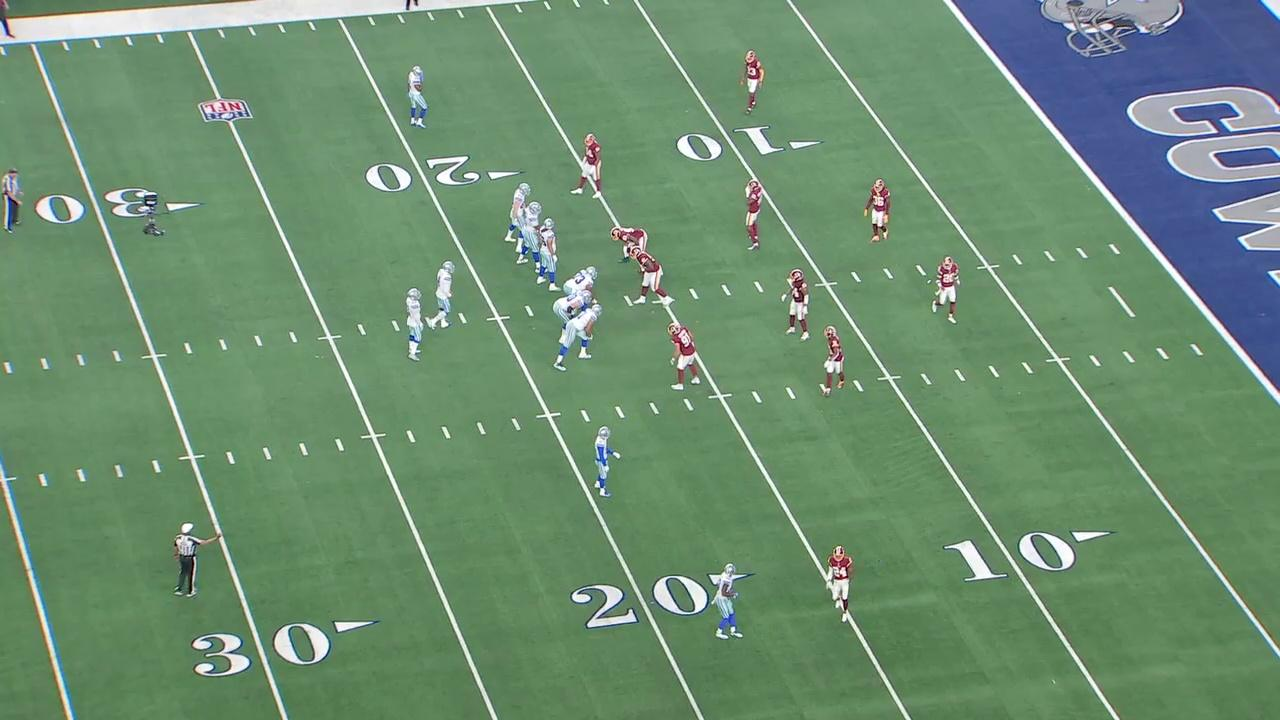player: (552, 304, 603, 374), (629, 246, 674, 308), (711, 563, 744, 642), (824, 545, 857, 623), (516, 199, 550, 274), (666, 321, 701, 392), (569, 133, 605, 200), (551, 288, 594, 344), (781, 269, 813, 343), (426, 260, 458, 333), (591, 424, 622, 499), (930, 256, 962, 326), (503, 181, 532, 254), (863, 179, 894, 244), (535, 216, 561, 293), (821, 325, 847, 398), (738, 49, 765, 116), (405, 285, 426, 365), (742, 178, 764, 251), (406, 65, 430, 130), (561, 265, 600, 305), (610, 225, 649, 265)
ref: (172, 520, 224, 601), (0, 165, 28, 232)
